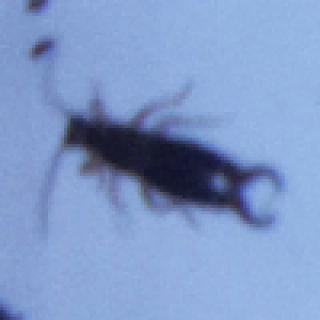earwig: (26, 57, 295, 248)
